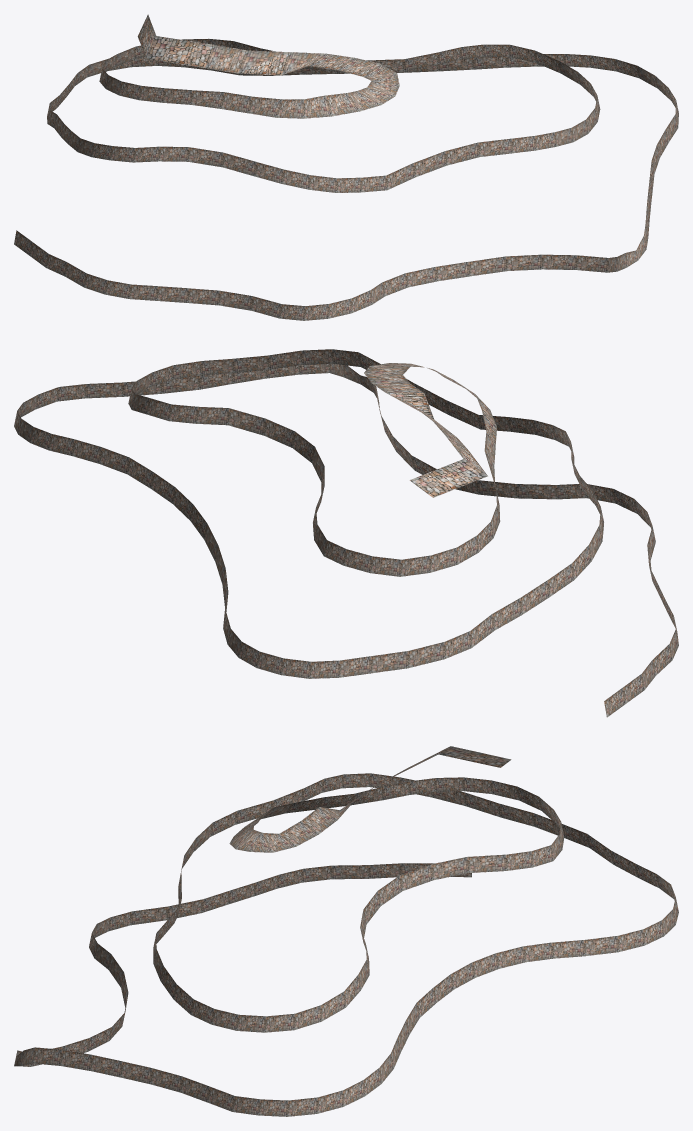
File: wall.obj
3 views of the same model, one above another, from view 1: azimuth 30°, elevation 25°; view 2: azimuth 150°, elevation 25°; view 3: azimuth 270°, elevation 25° (orthographic). The views are drawn at different scales.
Visible parts, largest first — view 1: left; view 2: left; view 3: left.
Boxes of the visible parts, box(x1,y1,x2,y2) form: left: box(14, 14, 678, 320); left: box(14, 349, 678, 717); left: box(14, 746, 678, 1116).
Bounding box in the file's own units: 205 × 62.41 × 185.
1 material, 1 textured.
